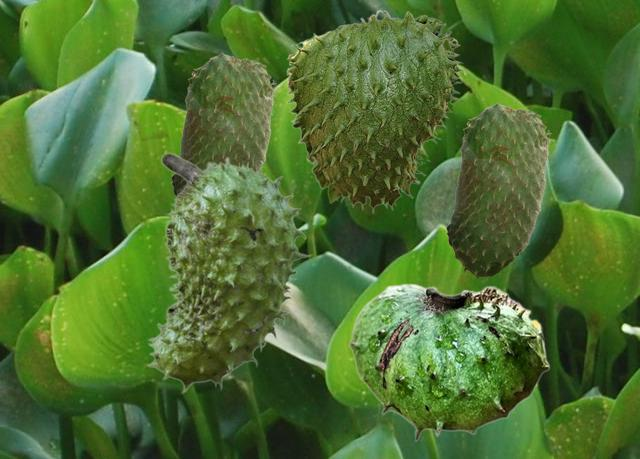guyabano: (145, 152, 311, 393), (286, 9, 464, 213), (348, 283, 549, 441), (445, 102, 550, 279), (170, 52, 275, 196)
